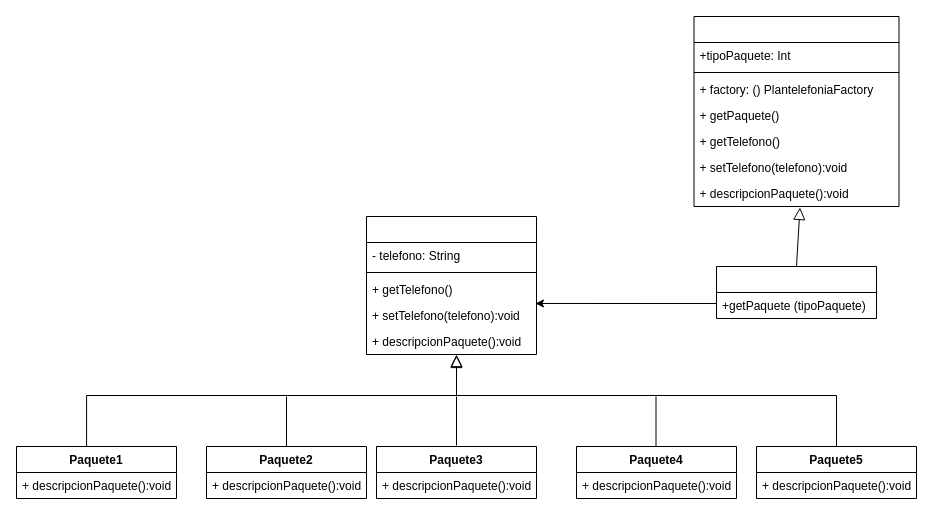
This 933x515 diagram has some shape labels left out. Here are the shapes that lost their labels. From the top down, the box of each, then its label:
(693, 16, 899, 206): Cliente
(366, 216, 536, 354): PlanTelefonia
(716, 266, 876, 318): PlanTelefoniaFacatory
